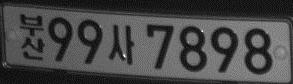7: (146, 23, 174, 70)
8: (244, 27, 273, 74), (179, 25, 208, 71)
9: (210, 26, 239, 72), (47, 16, 73, 61), (77, 19, 102, 64)
부산_V: (19, 13, 46, 61)
사: (108, 24, 134, 64)
